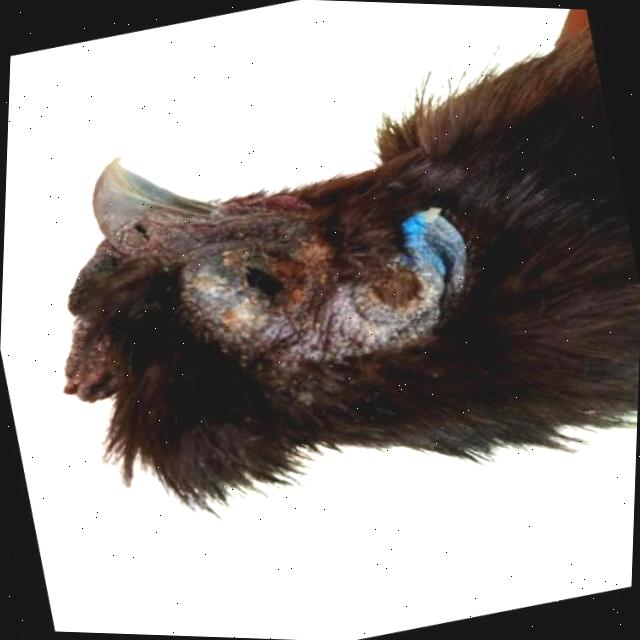Coryza: (177, 205, 375, 375)
